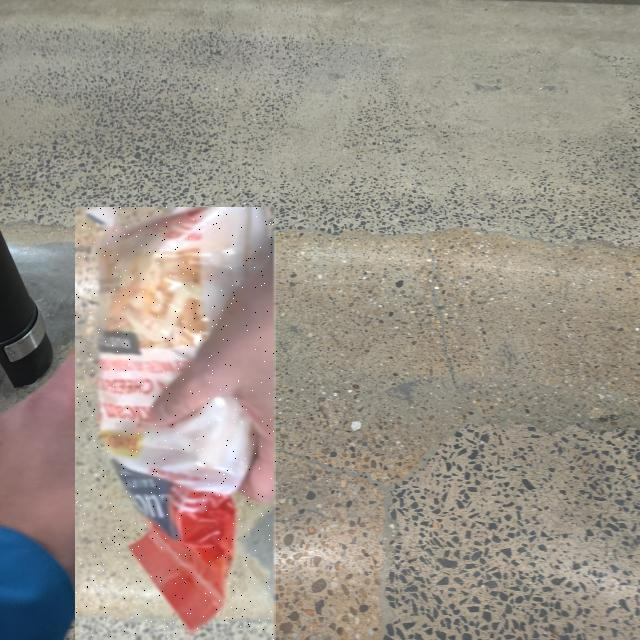cheese: (38, 0, 114, 527)
